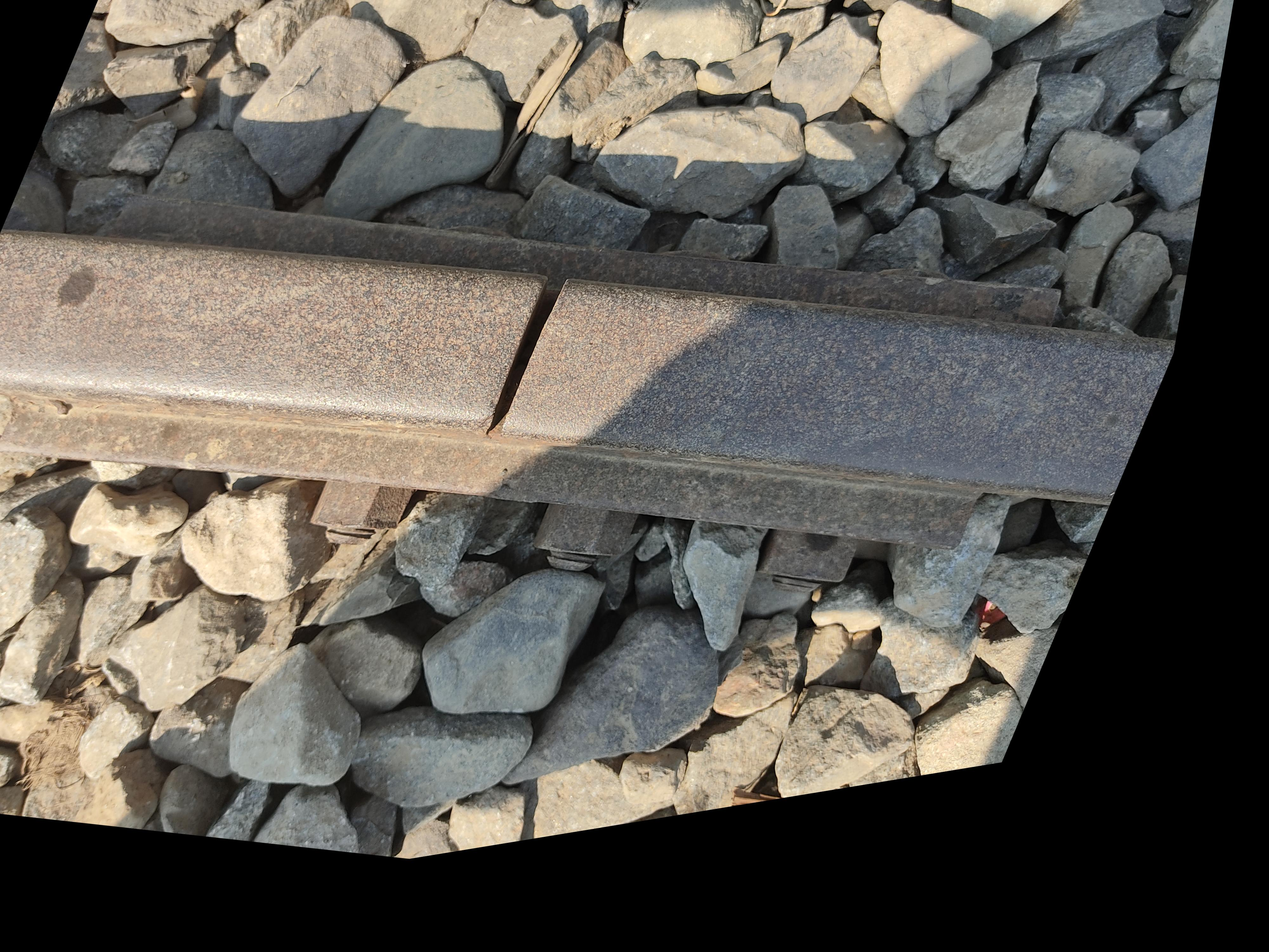person: (74, 464, 283, 674)
